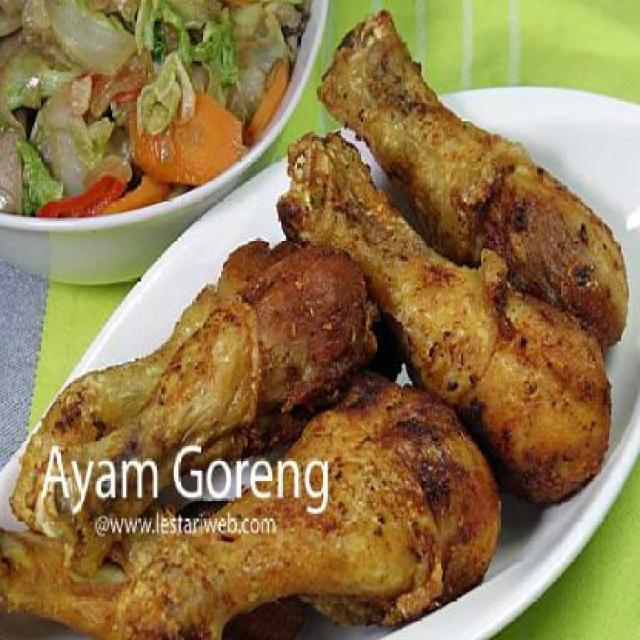Wet Waste: (4, 380, 498, 637), (288, 137, 610, 506), (317, 11, 628, 349), (12, 246, 372, 529)
